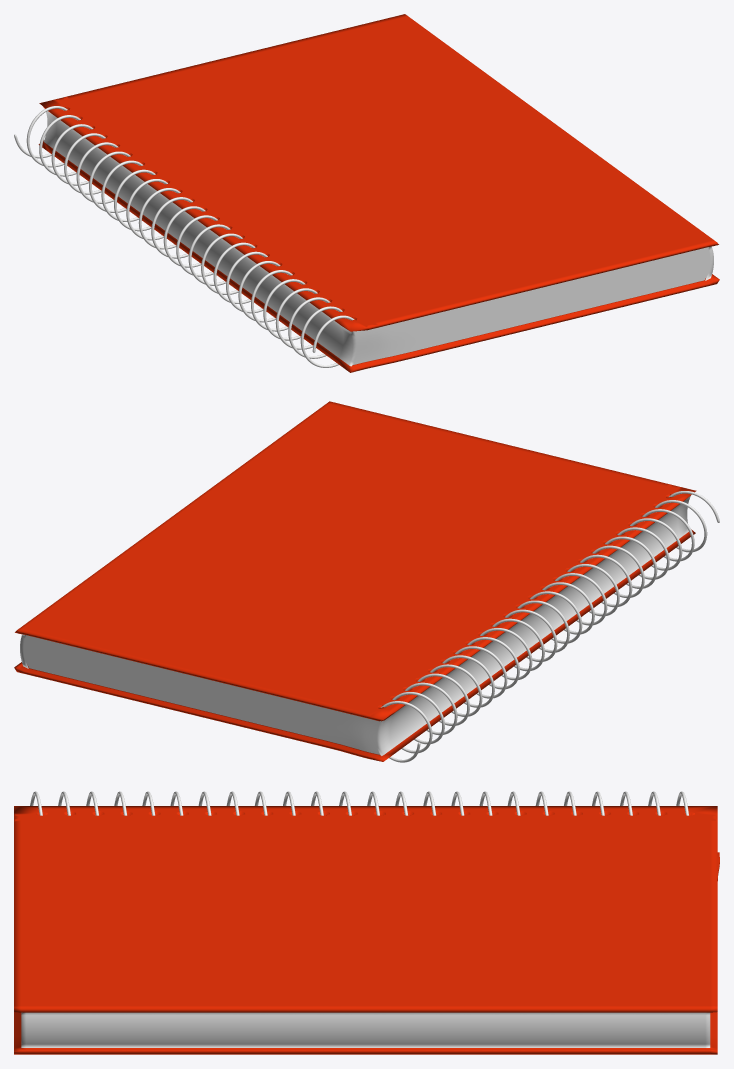
The model's file is 5_note.glb.
The picture shows the model from 3 angles, top to bottom: view 1: azimuth 30°, elevation 25°; view 2: azimuth 150°, elevation 25°; view 3: azimuth 270°, elevation 25°; orthographic projection. The views are drawn at different scales.
Parts seen in each view (by area): view 1: book.001, metal_spiral; view 2: book.001, metal_spiral; view 3: book.001, metal_spiral.
Part boxes in pixels (x1=…): book.001: x1=38, y1=14, x2=719, y2=372; metal_spiral: x1=14, y1=106, x2=354, y2=367; book.001: x1=14, y1=401, x2=696, y2=761; metal_spiral: x1=381, y1=491, x2=719, y2=762; book.001: x1=14, y1=806, x2=719, y2=1054; metal_spiral: x1=30, y1=791, x2=688, y2=815.
Bounding box in the file's own units: 0.2362 × 0.0313 × 0.3204.
